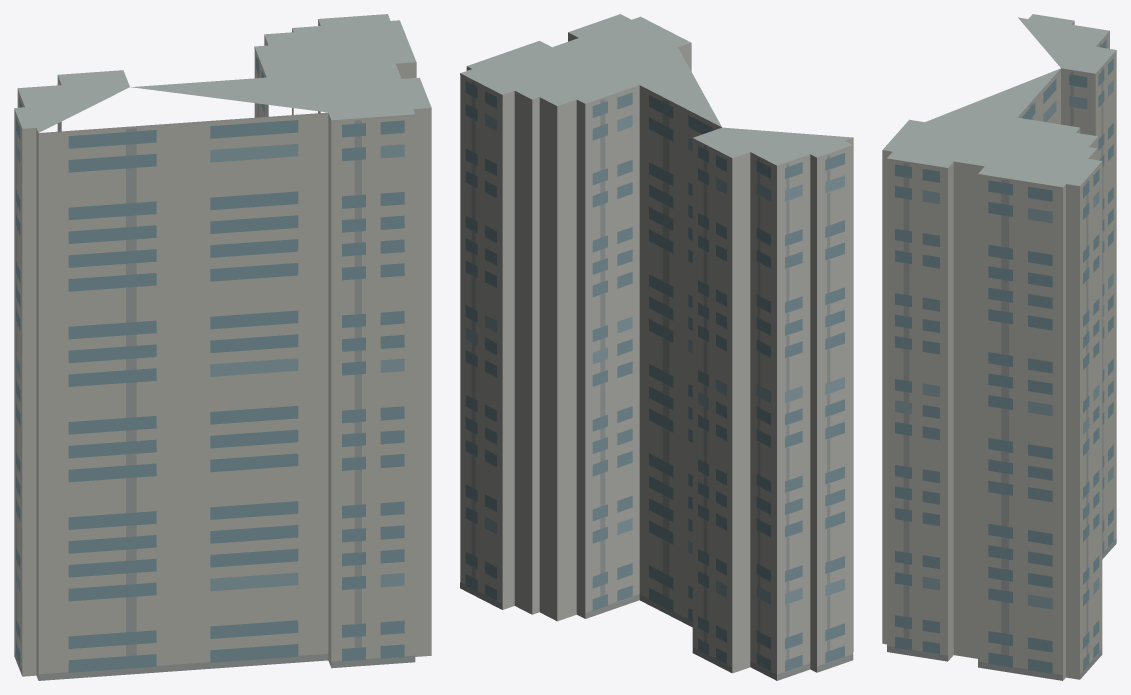
Rendered from residential-97eac038-372a-40ab-9fe1-ab9372d1cadf.glb.
3 views of the same model, side by side, from view 1: azimuth 30°, elevation 25°; view 2: azimuth 150°, elevation 25°; view 3: azimuth 270°, elevation 25° (orthographic). The views are drawn at different scales.
Parts seen in each view (by area): view 1: residential-97eac038-372a-40ab-9fe1-ab9372d1cadf.tmp; view 2: residential-97eac038-372a-40ab-9fe1-ab9372d1cadf.tmp; view 3: residential-97eac038-372a-40ab-9fe1-ab9372d1cadf.tmp.
Boxes of the visible parts, x1,y1,x2,y2 form: residential-97eac038-372a-40ab-9fe1-ab9372d1cadf.tmp: [14, 14, 431, 680]; residential-97eac038-372a-40ab-9fe1-ab9372d1cadf.tmp: [460, 14, 853, 680]; residential-97eac038-372a-40ab-9fe1-ab9372d1cadf.tmp: [882, 14, 1116, 680].
Bounding box in the file's own units: 49.71 × 66 × 28.39.
